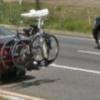bicycles: (12, 22, 59, 69)
